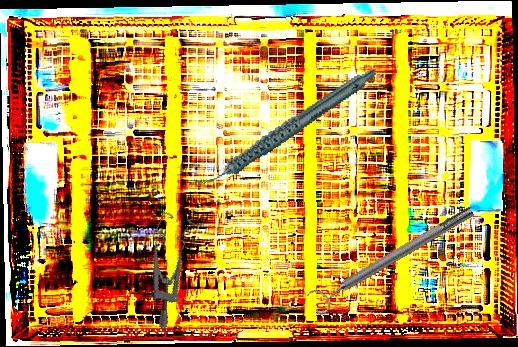Fixation Ring: (305, 199, 480, 318)
Handpiece: (177, 66, 394, 191)
Speculum: (121, 208, 210, 331)
